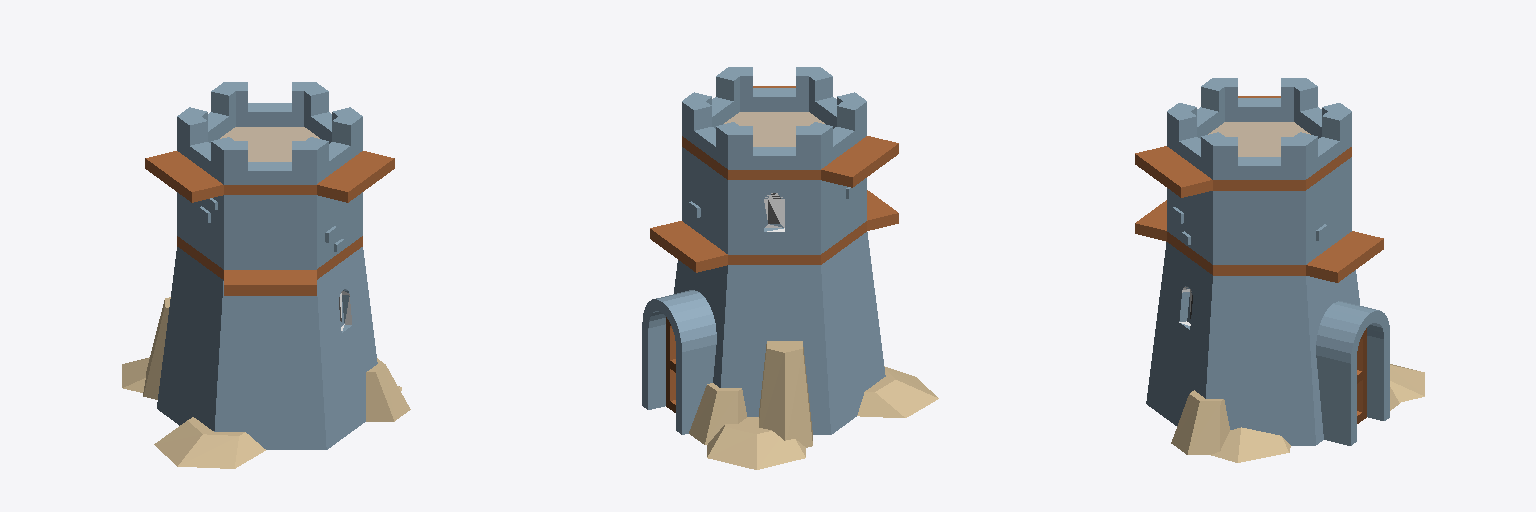
Rendered from tower.obj.
3 views of the same model, side by side, from view 1: azimuth 30°, elevation 25°; view 2: azimuth 150°, elevation 25°; view 3: azimuth 270°, elevation 25° (orthographic).
Parts seen in each view (by area): view 1: tower; view 2: tower; view 3: tower.
Boxes of the visible parts, box(x1,y1,x2,y2) form: tower: box(122, 82, 410, 468); tower: box(642, 67, 938, 469); tower: box(1135, 78, 1424, 462).
Bounding box in the file's own units: 33.22 × 37.15 × 33.4.